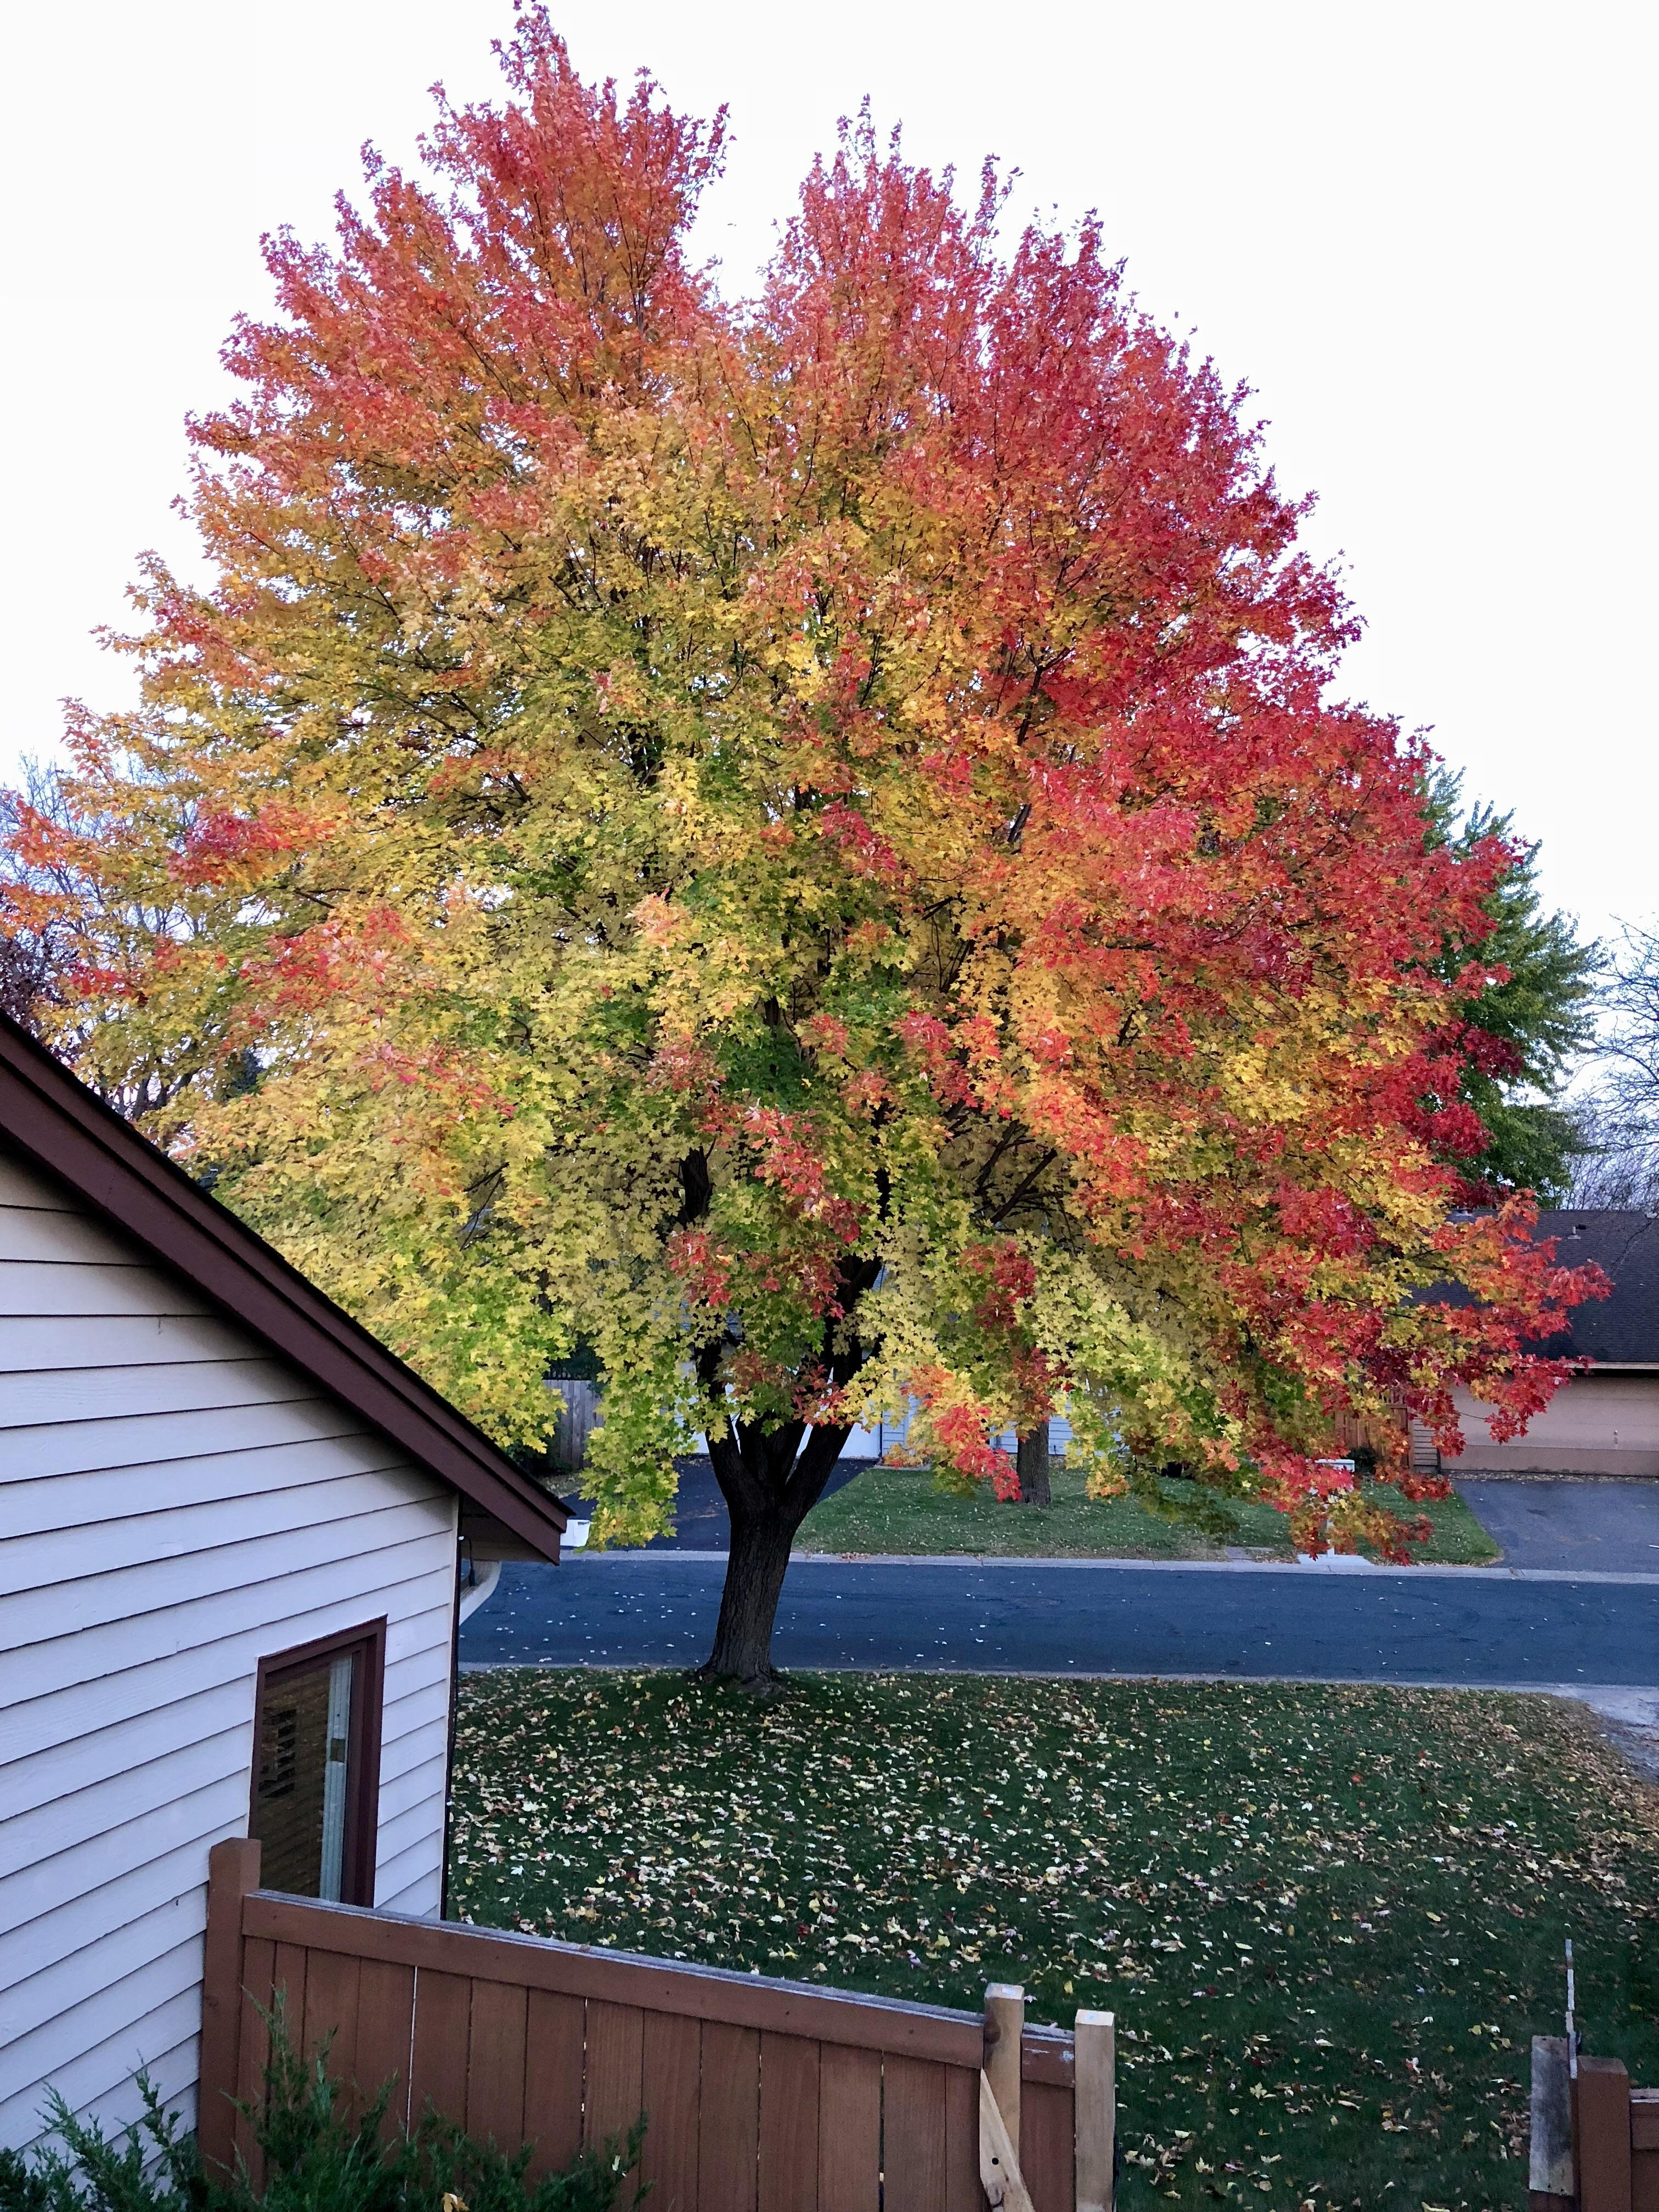tree: (52, 28, 1553, 1702)
